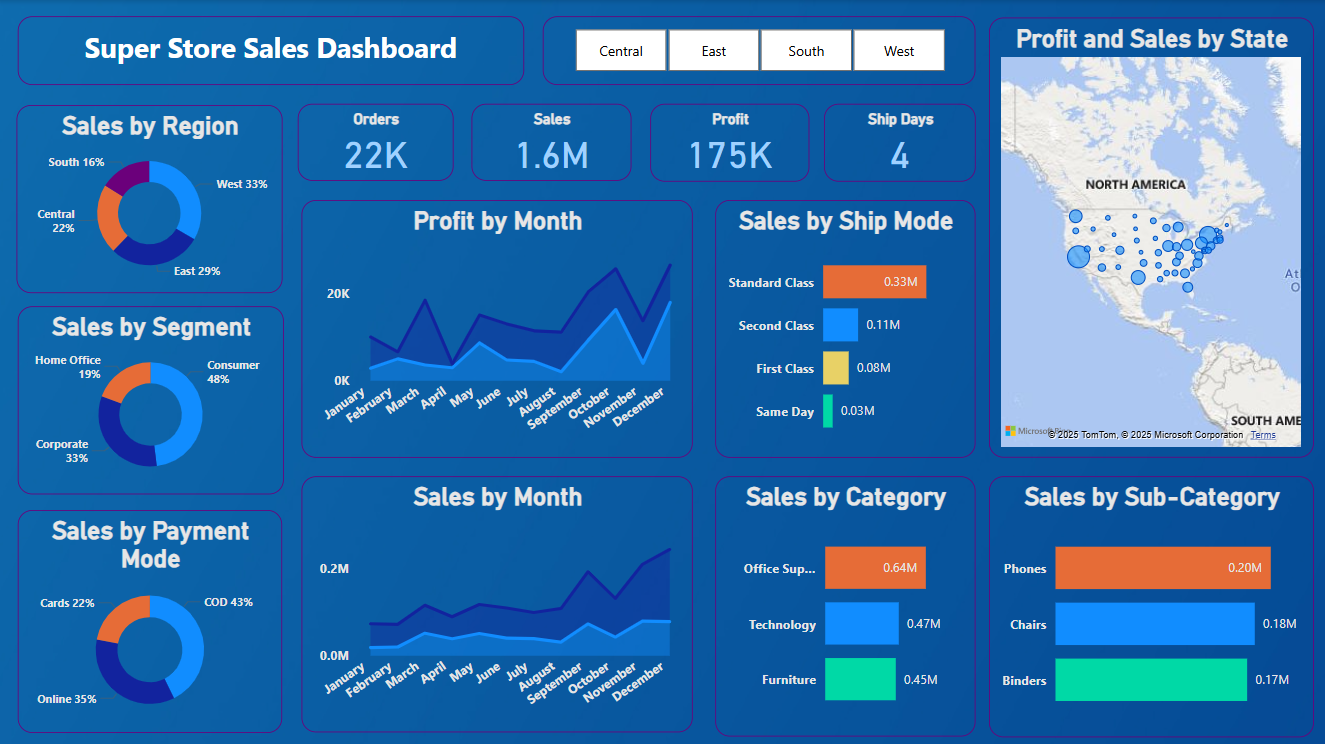

The dashboard page shown, as its layout file describes it:
{"tool":"powerbi","page":{"name":"Page 1","canvas":[1280,720],"ordinal":0},"visuals":[{"type":"clusteredBarChart","title":"Sales by Sub-Category","fields":{"Y":["Sum(SuperStore_Sales_Dataset.Sales)"],"Category":["SuperStore_Sales_Dataset.Sub-Category"]},"box":[955,460,313.3,251.7],"z":0},{"type":"clusteredBarChart","title":"Sales by Category","fields":{"Category":["SuperStore_Sales_Dataset.Category"],"Y":["Sum(SuperStore_Sales_Dataset.Sales)"]},"box":[691.3,459.7,250.9,250.9],"z":1000},{"type":"clusteredBarChart","title":"Sales by Ship Mode","fields":{"Y":["Sum(SuperStore_Sales_Dataset.Sales)"],"Category":["SuperStore_Sales_Dataset.Ship Mode"]},"box":[691.3,193,250.9,248.5],"z":2000},{"type":"stackedAreaChart","title":"Sales by Month","fields":{"Y":["Sum(SuperStore_Sales_Dataset.Sales)"],"Series":["SuperStore_Sales_Dataset.Order Date.Variation.Date Hierarchy.Year"],"Category":["SuperStore_Sales_Dataset.Order Date.Variation.Date Hierarchy.Month","SuperStore_Sales_Dataset.Order Date.Variation.Date Hierarchy.Day"]},"box":[292,459.7,377.6,247.3],"z":3000},{"type":"stackedAreaChart","title":"Profit by Month","fields":{"Series":["SuperStore_Sales_Dataset.Order Date.Variation.Date Hierarchy.Year"],"Category":["SuperStore_Sales_Dataset.Order Date.Variation.Date Hierarchy.Month","SuperStore_Sales_Dataset.Order Date.Variation.Date Hierarchy.Day"],"Y":["Sum(SuperStore_Sales_Dataset.Profit)"]},"box":[292,193,377.6,248.5],"z":4000},{"type":"map","title":"Profit and Sales by State","fields":{"Category":["SuperStore_Sales_Dataset.State"],"Size":["Sum(SuperStore_Sales_Dataset.Sales)"]},"box":[955,16.7,313.3,425],"z":5000},{"type":"donutChart","title":"Sales by Segment","fields":{"Category":["SuperStore_Sales_Dataset.Segment"],"Y":["Sum(SuperStore_Sales_Dataset.Sales)"]},"box":[18.3,295,256.7,181.7],"z":6000},{"type":"donutChart","title":"Sales by Payment Mode","fields":{"Category":["SuperStore_Sales_Dataset.Payment Mode"],"Y":["Sum(SuperStore_Sales_Dataset.Sales)"]},"box":[18.3,491.7,255,215],"z":7000},{"type":"slicer","fields":{"Values":["SuperStore_Sales_Dataset.Region"]},"box":[525,16.2,417.5,66.2],"z":8000},{"type":"textbox","box":[18.1,15.7,488.6,66.4],"z":9000},{"type":"card","title":"Sales","fields":{"Values":["Sum(SuperStore_Sales_Dataset.Sales)"]},"box":[456,100,154,74],"z":10000},{"type":"card","title":"Profit","fields":{"Values":["Sum(SuperStore_Sales_Dataset.Profit)"]},"box":[628.3,100,153.3,75],"z":11000},{"type":"card","title":"Ship Days","fields":{"Values":["Avg(SuperStore_Sales_Dataset.AvgDelivery)"]},"box":[796.7,100,146.7,75],"z":12000},{"type":"card","title":"Orders","fields":{"Values":["Sum(SuperStore_Sales_Dataset.Quantity)"]},"box":[288,100,150,74],"z":13000},{"type":"donutChart","title":"Sales by Region","fields":{"Y":["Sum(SuperStore_Sales_Dataset.Sales)"],"Category":["SuperStore_Sales_Dataset.Region"]},"box":[16.7,101.7,256.7,181.7],"z":13001}]}

Visuals, with their boxes in screenshot pixels (x1, y1, x2, y2), scaled from the page's 1280x720 canvas onto the 1325x744 screenshot:
"Sales by Sub-Category" clusteredBarChart: <box>989,475,1313,735</box>
"Sales by Category" clusteredBarChart: <box>716,475,975,734</box>
"Sales by Ship Mode" clusteredBarChart: <box>716,199,975,456</box>
"Sales by Month" stackedAreaChart: <box>302,475,693,731</box>
"Profit by Month" stackedAreaChart: <box>302,199,693,456</box>
"Profit and Sales by State" map: <box>989,17,1313,456</box>
"Sales by Segment" donutChart: <box>19,305,285,493</box>
"Sales by Payment Mode" donutChart: <box>19,508,283,730</box>
slicer - SuperStore_Sales_Dataset.Region: <box>543,17,976,85</box>
textbox: <box>19,16,525,85</box>
"Sales" card: <box>472,103,631,180</box>
"Profit" card: <box>650,103,809,181</box>
"Ship Days" card: <box>825,103,977,181</box>
"Orders" card: <box>298,103,453,180</box>
"Sales by Region" donutChart: <box>17,105,283,293</box>
